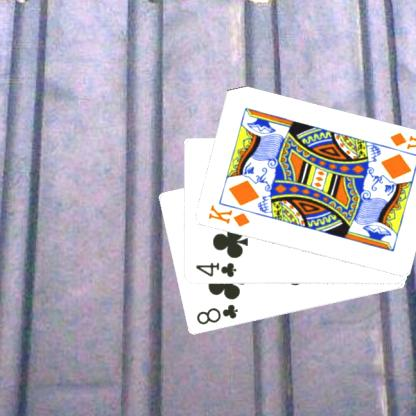4C: (193, 260, 238, 279)
8C: (193, 301, 240, 327)
KD: (205, 202, 251, 229), (386, 130, 416, 156)
